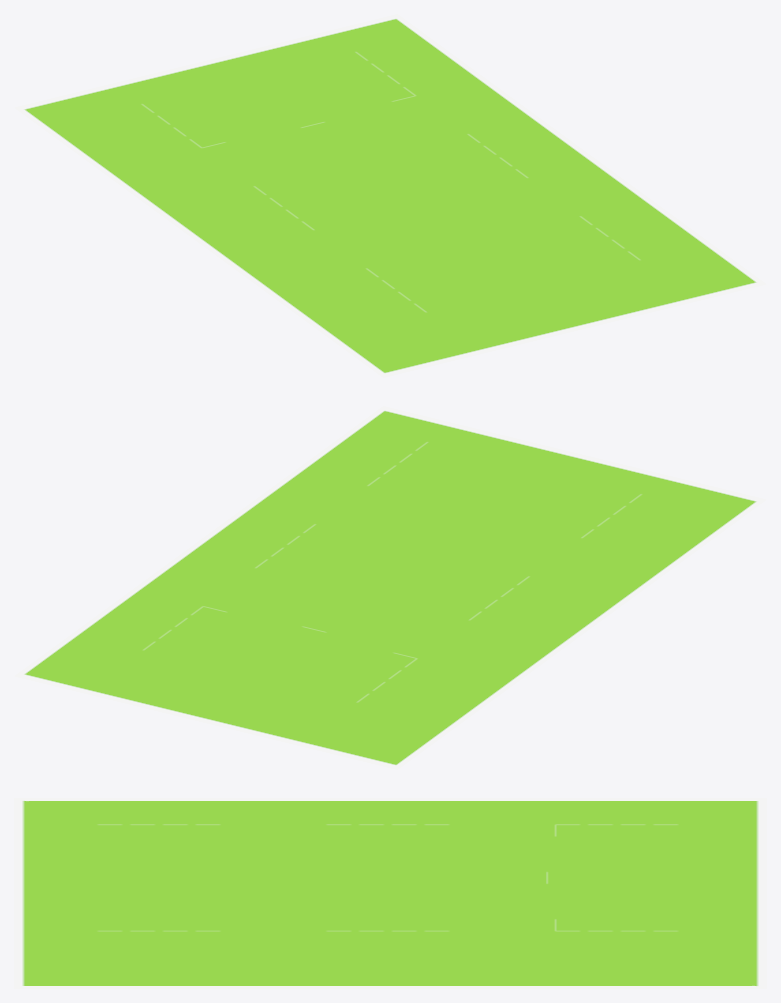
The model's file is arrow.glb.
The picture shows the model from 3 angles, top to bottom: view 1: azimuth 30°, elevation 25°; view 2: azimuth 150°, elevation 25°; view 3: azimuth 270°, elevation 25°; orthographic projection.
Parts seen in each view (by area): view 1: Plane.001, Plane; view 2: Plane.001, Plane; view 3: Plane.001, Plane.
Part boxes in pixels (left/top/right/bottom): Plane.001: left=14, top=14, right=766, bottom=377; Plane: left=141, top=52, right=640, bottom=312; Plane.001: left=14, top=406, right=766, bottom=769; Plane: left=143, top=442, right=641, bottom=702; Plane.001: left=14, top=798, right=766, bottom=988; Plane: left=88, top=824, right=678, bottom=931.
Size of the model in its own units: 8.73 by 0.3251 by 14.55.
Materials: 2 (2 with a texture image).
